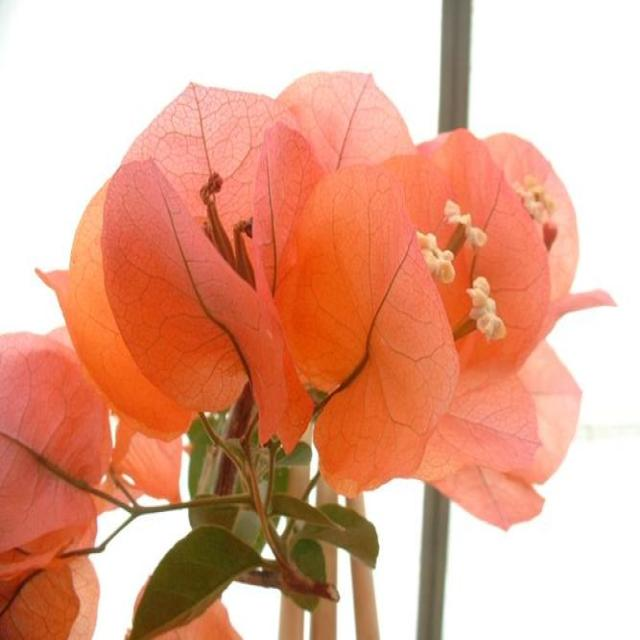bougainvillea: (24, 28, 640, 566)
